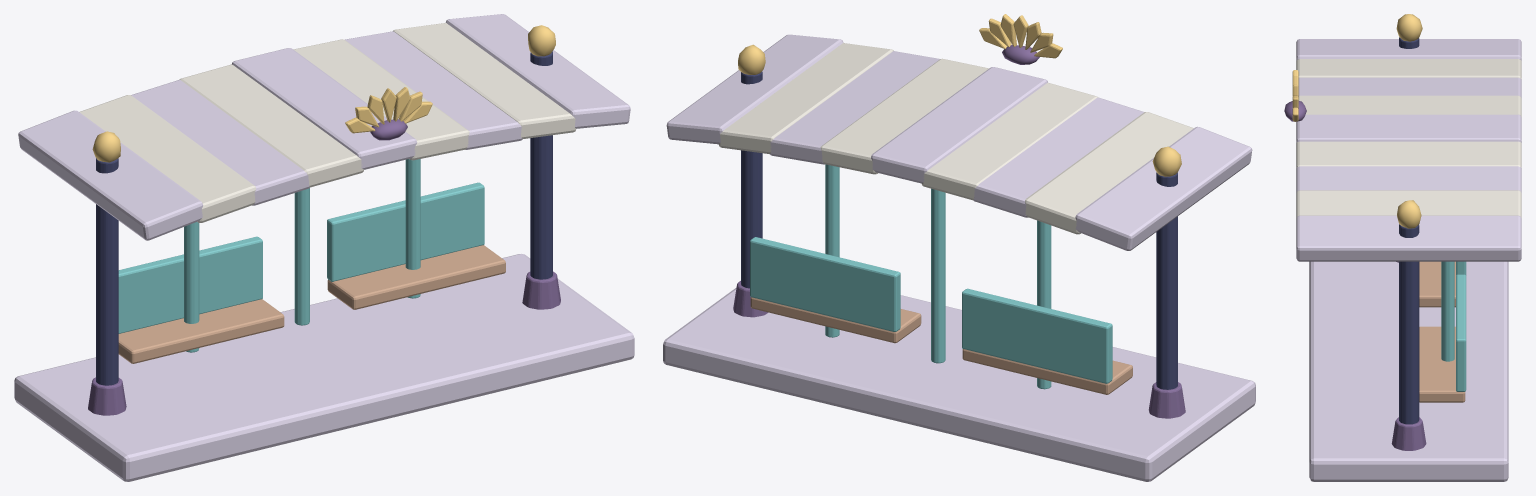
Rendered from lagoon_train_station.glb.
3 renders of one model, left to right at view 1: azimuth 30°, elevation 25°; view 2: azimuth 150°, elevation 25°; view 3: azimuth 270°, elevation 25°, orthographic. The views are drawn at different scales.
Visible parts, largest first — view 1: lagoon_train_station.001; view 2: lagoon_train_station.001; view 3: lagoon_train_station.001.
Part boxes in pixels (x1=…): lagoon_train_station.001: x1=14, y1=14, x2=634, y2=481; lagoon_train_station.001: x1=663, y1=14, x2=1255, y2=481; lagoon_train_station.001: x1=1284, y1=14, x2=1521, y2=481.
Bounding box in the file's own units: 12 × 7.62 × 5.48.
